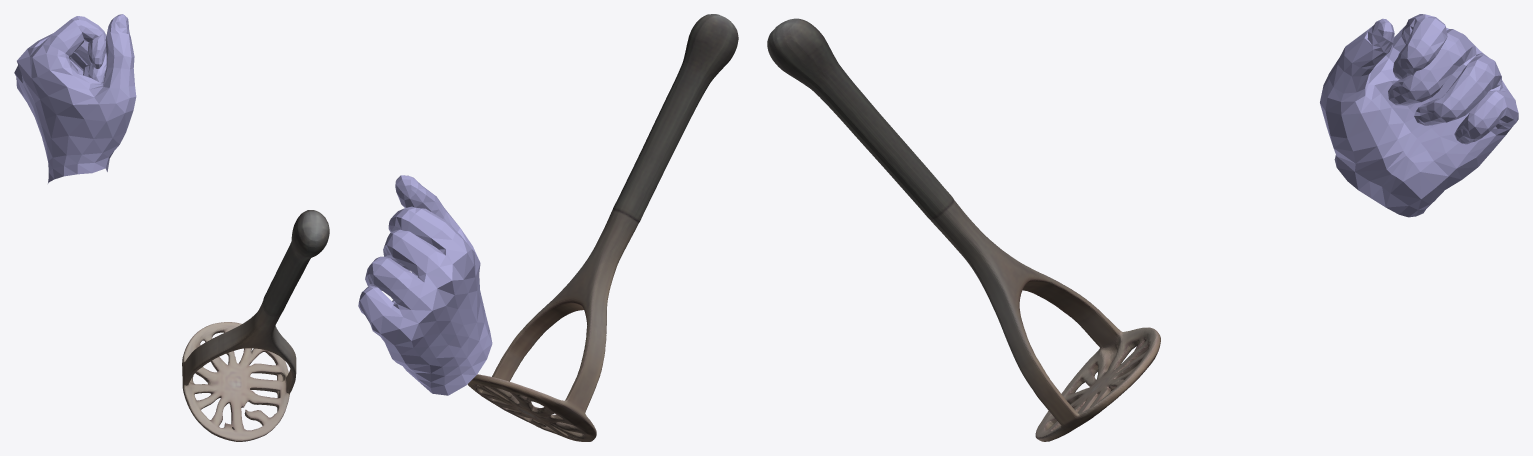
File: frame_0046_source_000046_hand_object.glb
3 views of the same model, side by side, from view 1: azimuth 30°, elevation 25°; view 2: azimuth 150°, elevation 25°; view 3: azimuth 270°, elevation 25° (orthographic). The views are drawn at different scales.
Visible parts, largest first — view 1: world; view 2: world; view 3: world.
Boxes of the visible parts, bbox=[...] form: world: bbox=[14, 14, 329, 441]; world: bbox=[358, 14, 738, 441]; world: bbox=[767, 14, 1518, 441].
Size of the model in its own units: 0.0934 by 0.2332 by 0.3817.
